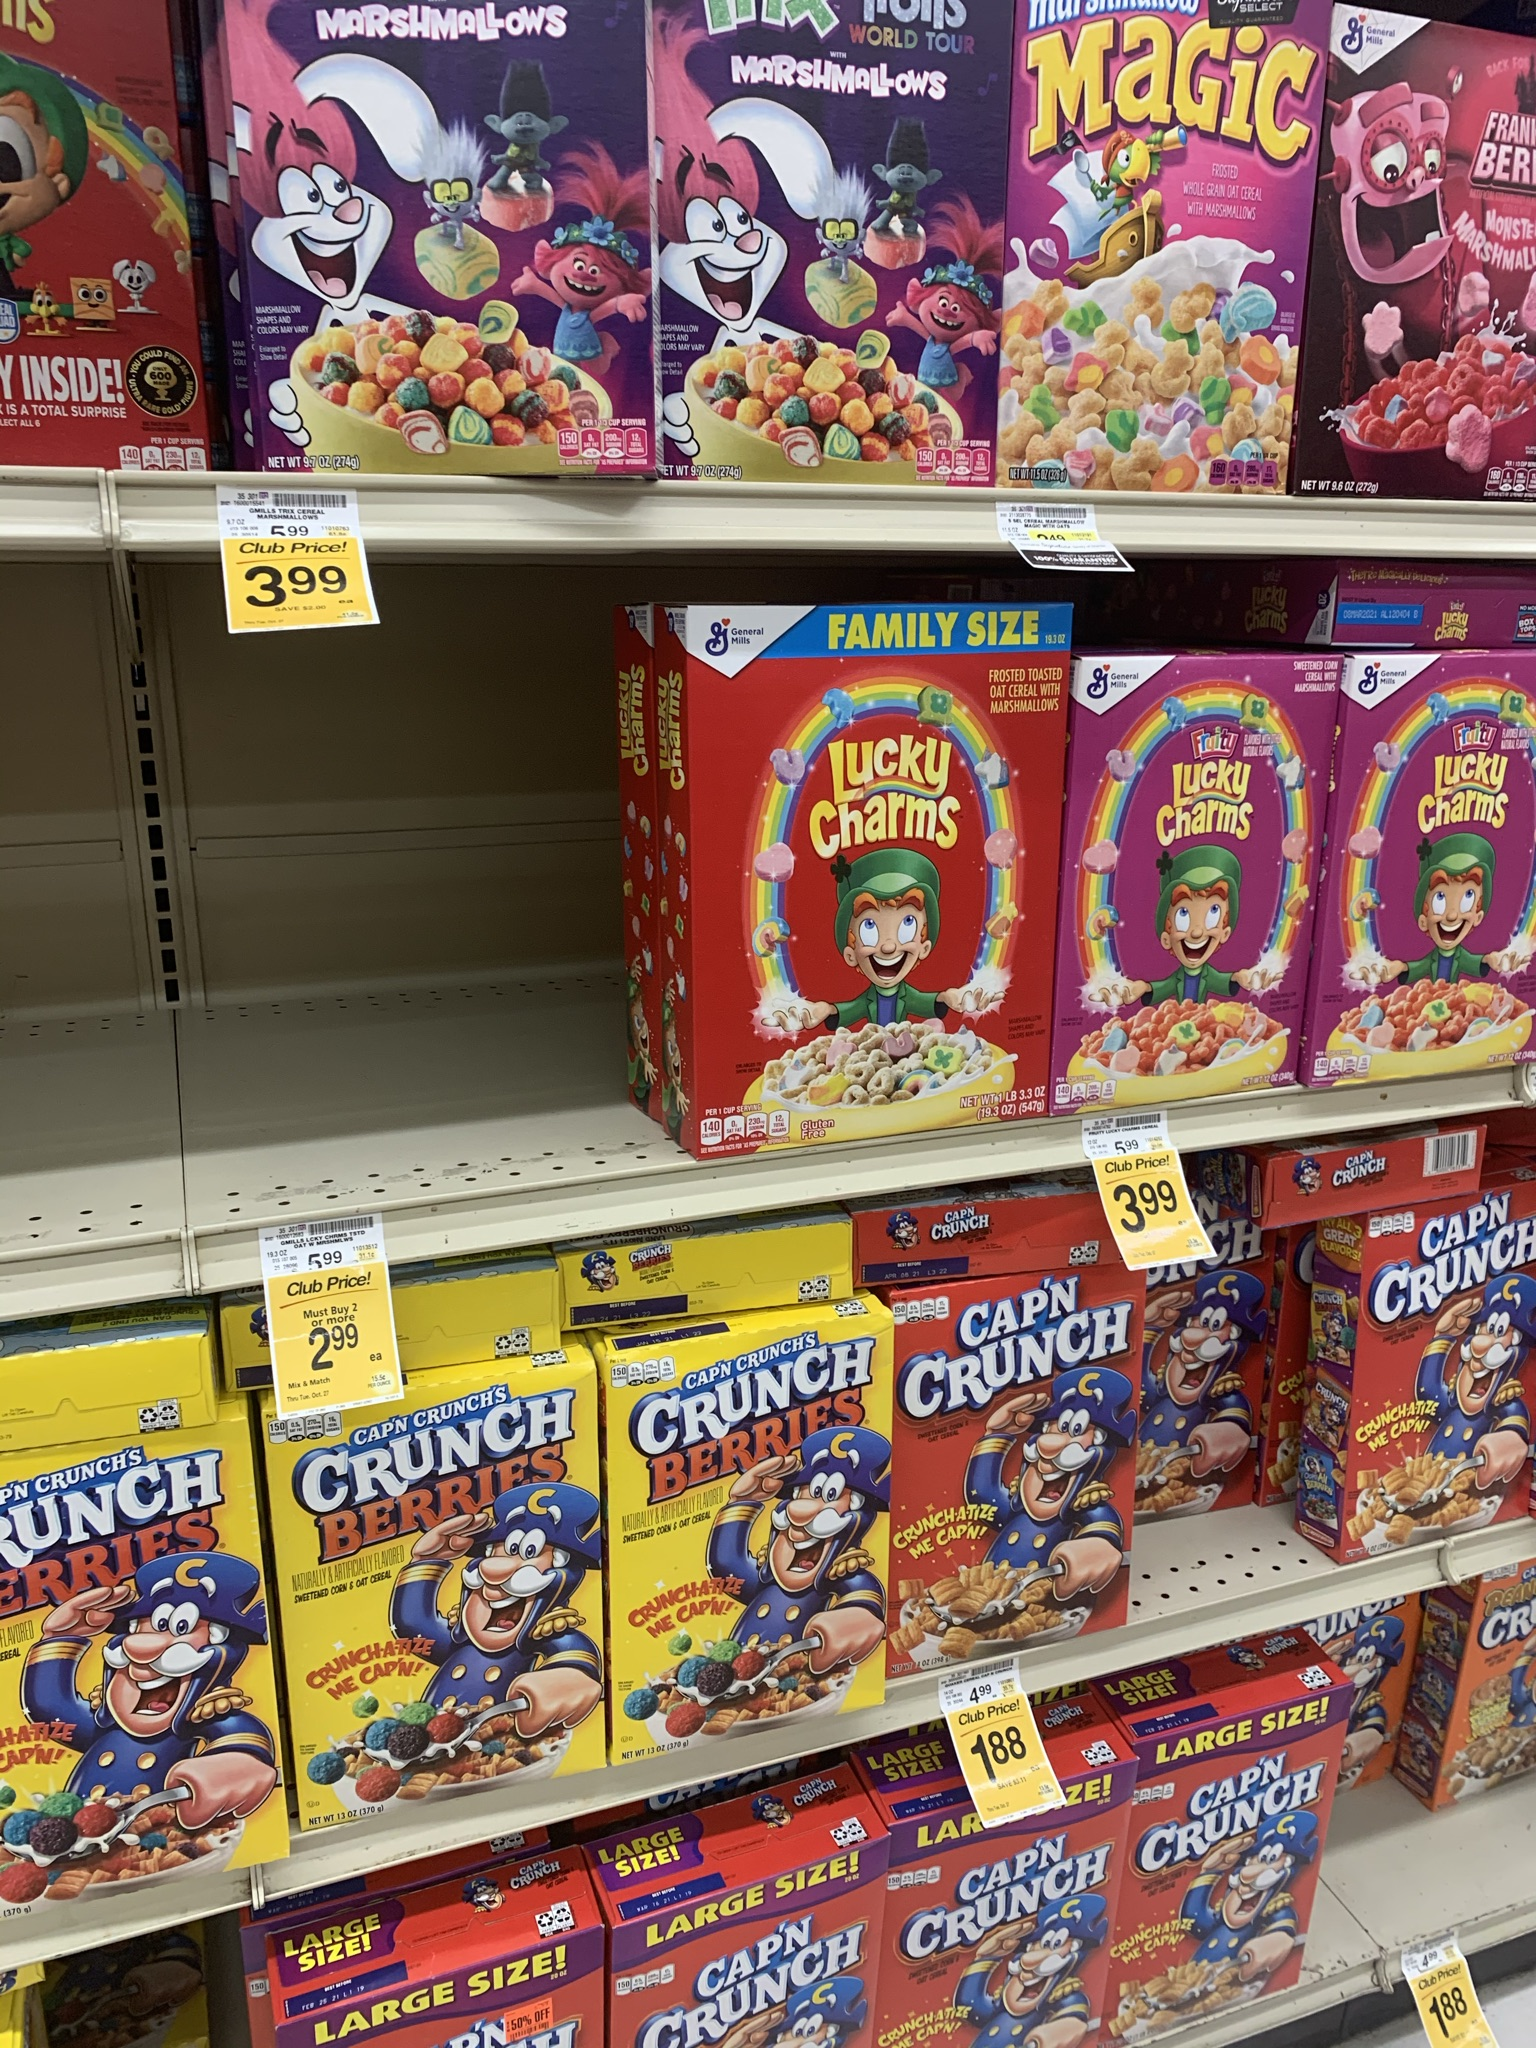cereal: (231, 6, 665, 484), (678, 600, 1050, 1132), (649, 8, 1008, 490), (1029, 2, 1312, 514), (248, 1408, 608, 1801), (605, 1321, 886, 1738), (2, 1430, 236, 1884), (1318, 3, 1536, 489), (879, 1279, 1142, 1634), (1076, 653, 1291, 1076), (1118, 1679, 1333, 2048), (1339, 661, 1531, 1068), (895, 1761, 1128, 2048), (618, 1793, 876, 2048), (1357, 1219, 1513, 1538)
